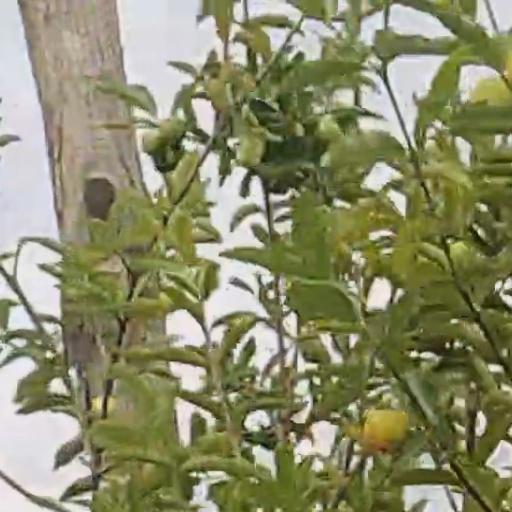acerola: (363, 410, 409, 452)
